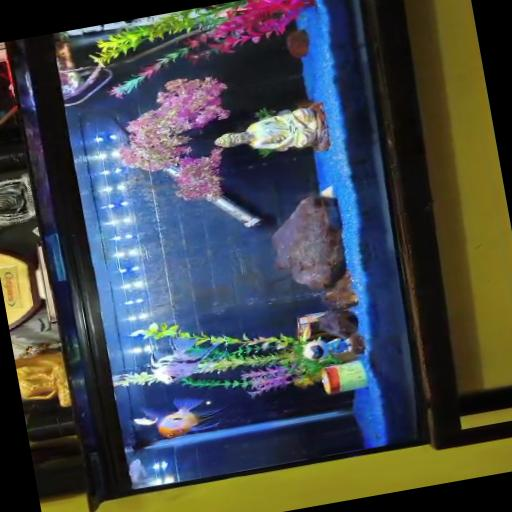Fish: (142, 397, 225, 438), (150, 336, 220, 383), (129, 459, 147, 486), (134, 417, 157, 424)
